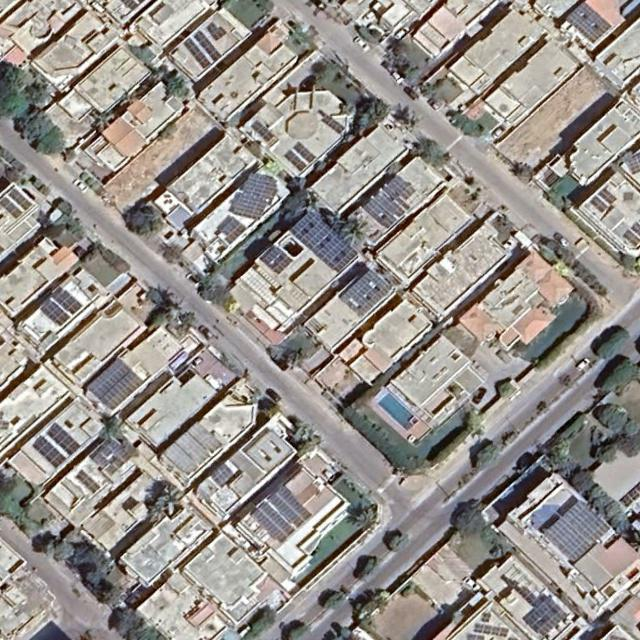solar panel: (540, 498, 614, 568), (288, 210, 361, 274), (249, 486, 314, 549), (161, 422, 228, 480), (81, 358, 151, 413), (359, 175, 418, 231), (337, 269, 395, 321), (560, 2, 614, 47), (518, 595, 573, 639), (230, 173, 277, 220), (245, 431, 293, 474), (90, 437, 136, 478), (30, 435, 69, 471), (44, 422, 83, 457), (255, 246, 296, 277), (0, 189, 34, 221), (37, 299, 72, 329), (182, 37, 212, 70), (216, 217, 249, 247), (73, 468, 107, 496), (193, 31, 223, 61), (52, 290, 85, 316), (247, 118, 277, 144), (292, 139, 320, 165), (467, 624, 513, 639), (618, 483, 639, 515), (208, 463, 235, 487), (620, 219, 639, 252), (319, 114, 347, 135), (283, 150, 307, 173), (620, 151, 639, 180), (589, 194, 610, 216), (206, 22, 228, 41), (597, 188, 618, 205), (475, 611, 496, 623)
